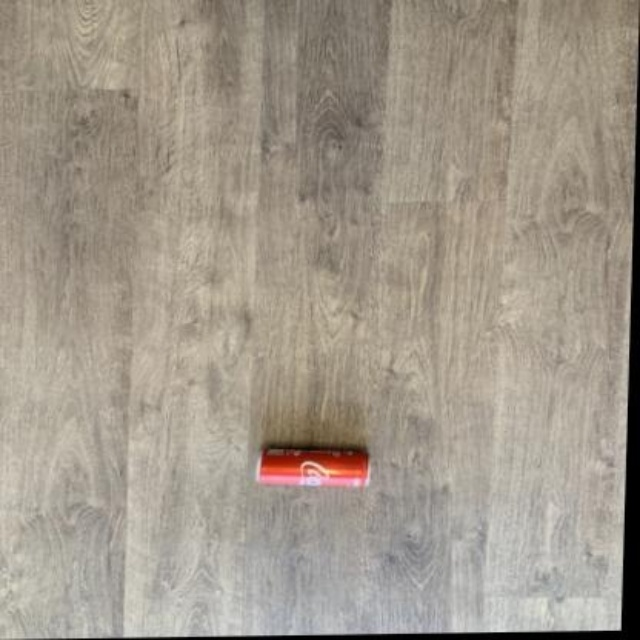trash: (257, 445, 368, 486)
